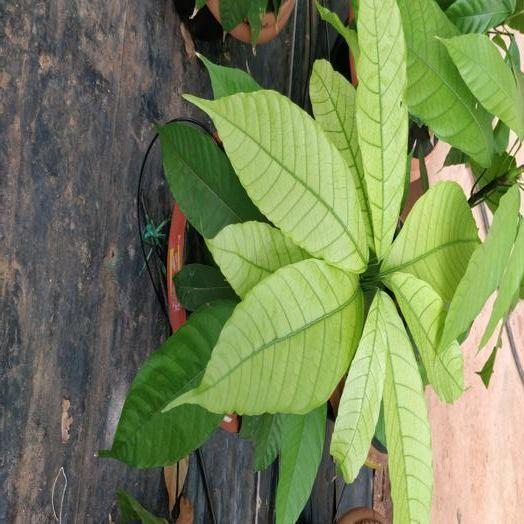Healthy Leaf: (100, 301, 233, 467), (158, 123, 265, 237), (276, 404, 325, 523), (240, 414, 286, 469), (446, 0, 515, 32)
Iron: (187, 90, 367, 272), (166, 260, 363, 415), (397, 0, 492, 165), (357, 0, 407, 258), (440, 189, 519, 348), (382, 182, 478, 302), (382, 293, 432, 523), (330, 291, 390, 482), (309, 60, 370, 245), (386, 272, 463, 401), (440, 34, 523, 137), (206, 221, 311, 298), (481, 217, 523, 346)
